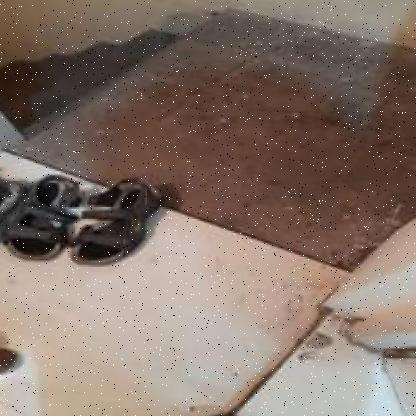stair_down: (1, 17, 183, 123)
